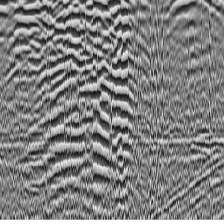cavities: (14, 0, 139, 192)
